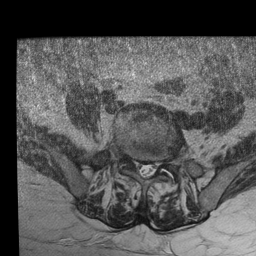CCS_normal: (142, 155, 150, 184)
LFS_stenosis: (157, 151, 164, 172)
LLS_normal: (150, 154, 157, 182)
RFS_severe_stenosis: (127, 149, 134, 172)
RLS_normal: (134, 154, 142, 180)
